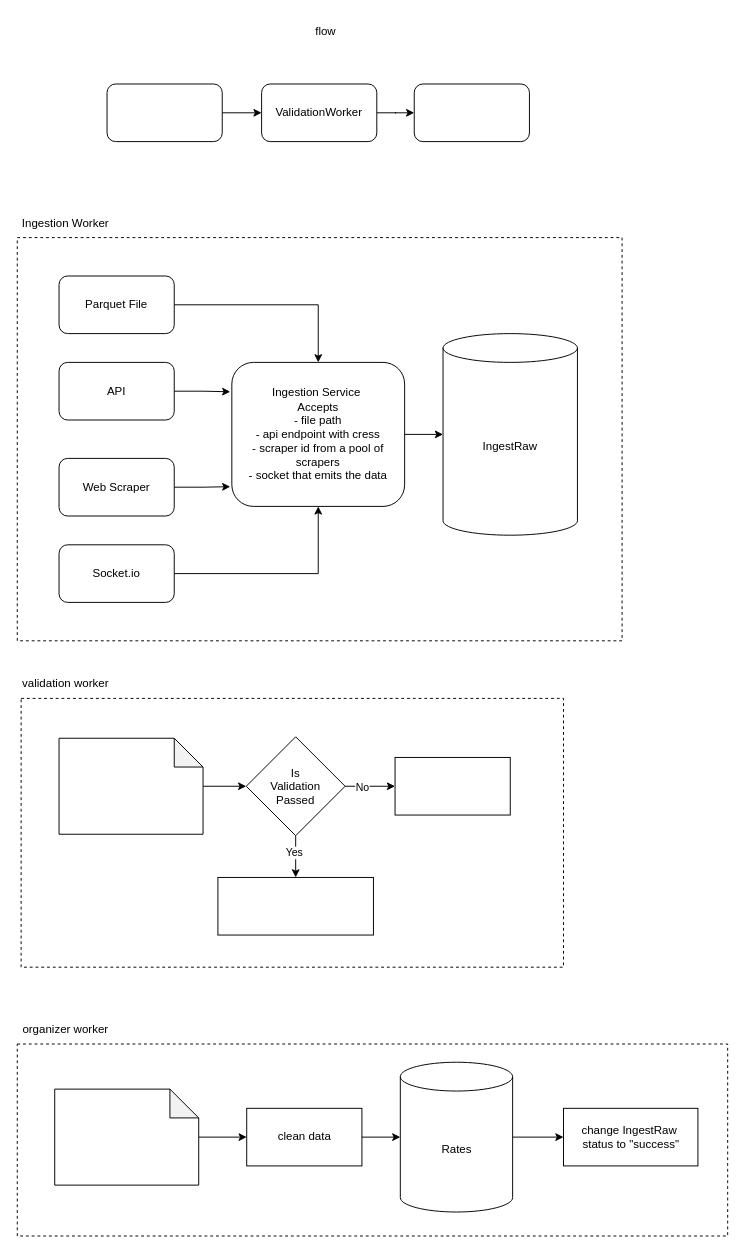
Image size: 744x1253. Some labels were removed from this diagram. The centre of each missing label's shape, as x and y in pixels:
IngestionWorker: (x=164, y=112)
OrganizerWorker: (x=471, y=112)
pending status data in IngestRaw table: (x=130, y=785)
update status as "invalid": (x=452, y=785)
update status as "valid": (x=295, y=905)
validated status data in IngestRaw table: (x=126, y=1136)
